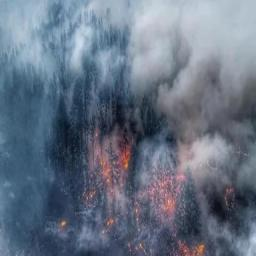Heavy smoke: (0, 0, 256, 251)
Small fire: (48, 105, 224, 256)
